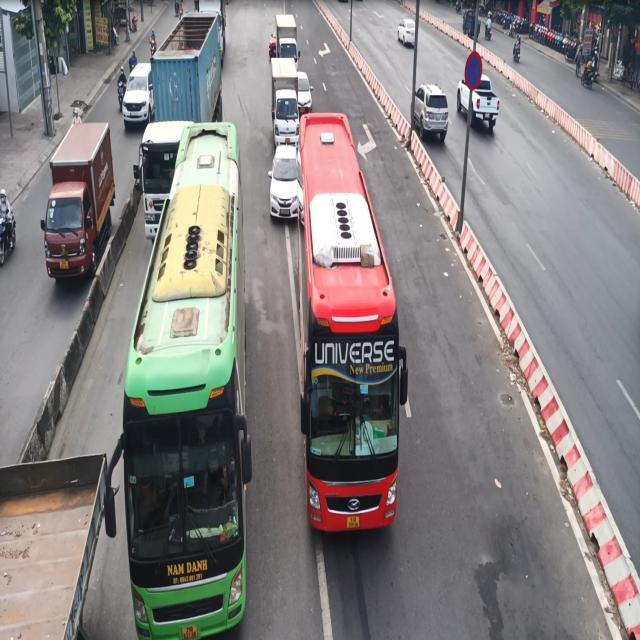bus: (120, 116, 254, 640), (289, 118, 404, 537)
motor: (0, 186, 24, 268)
truck: (39, 118, 118, 296)
